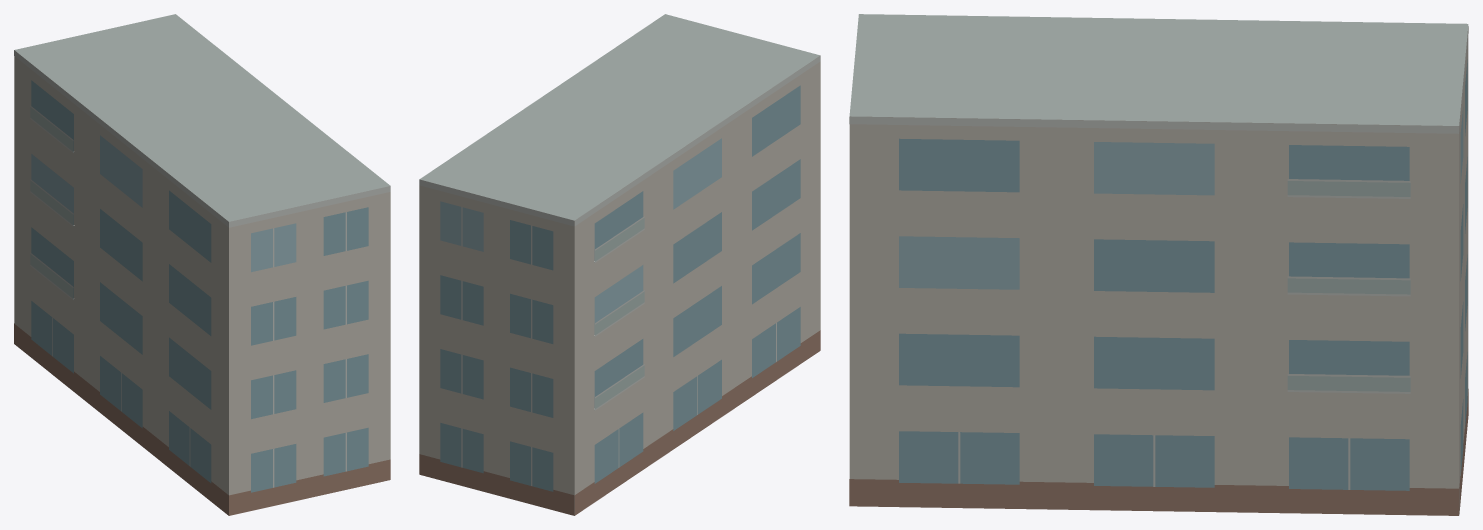
File: survey-upis-32823095.glb
The picture shows the model from 3 angles, left to right: view 1: azimuth 30°, elevation 25°; view 2: azimuth 150°, elevation 25°; view 3: azimuth 270°, elevation 25°; orthographic projection. The views are drawn at different scales.
Visible parts, largest first — view 1: survey-upis-32823095.tmp; view 2: survey-upis-32823095.tmp; view 3: survey-upis-32823095.tmp.
Boxes of the visible parts, box(x1,y1,x2,y2) form: survey-upis-32823095.tmp: box(14, 14, 390, 515); survey-upis-32823095.tmp: box(419, 14, 820, 515); survey-upis-32823095.tmp: box(849, 14, 1468, 515).
Bounding box in the file's own units: 7.53 × 12.2 × 17.57.
